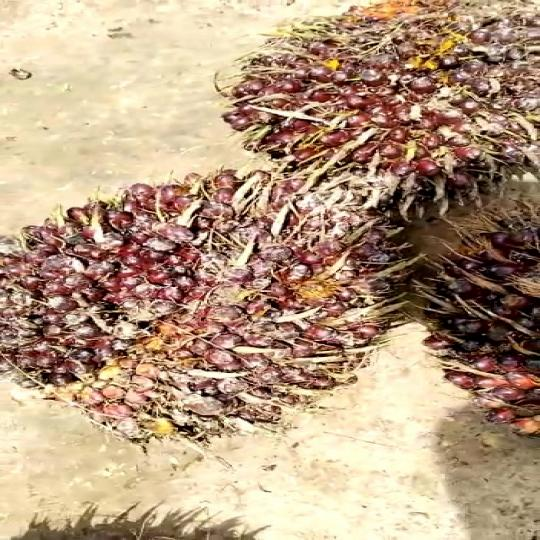kurang masak: (0, 161, 434, 464), (197, 0, 540, 205)
